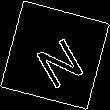N_NW: (25, 23, 85, 87)
